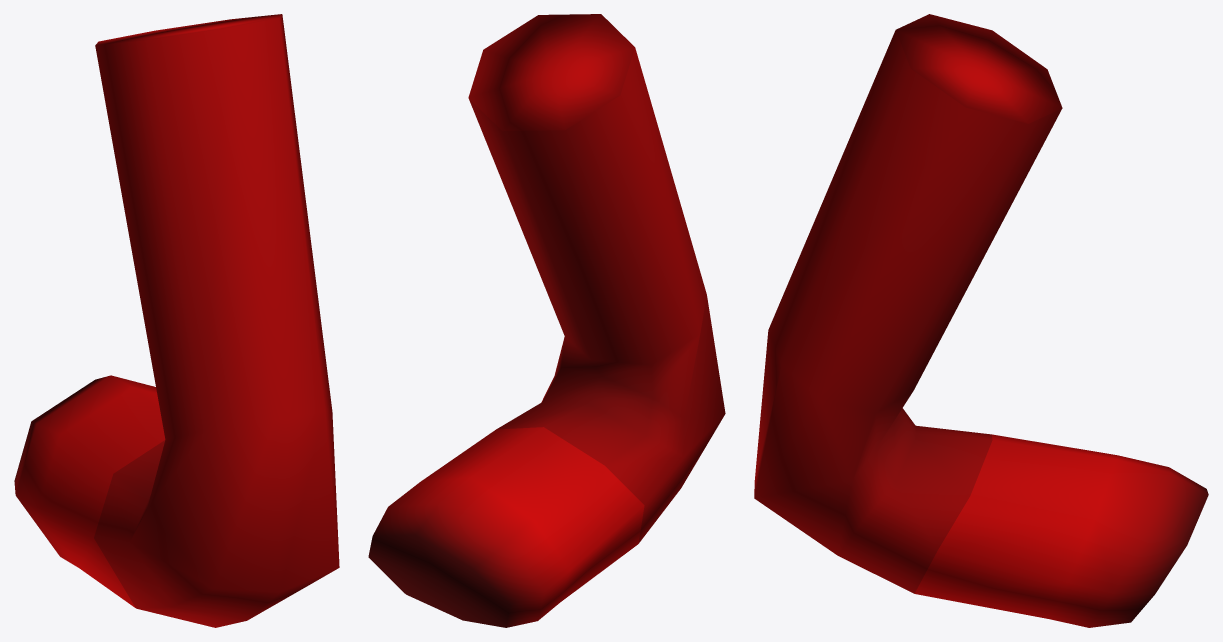
The model's file is CigaretteButt002.glb.
3 renders of one model, left to right at view 1: azimuth 30°, elevation 25°; view 2: azimuth 150°, elevation 25°; view 3: azimuth 270°, elevation 25°, orthographic. The views are drawn at different scales.
Parts seen in each view (by area): view 1: CigaretteButt002; view 2: CigaretteButt002; view 3: CigaretteButt002.
Part boxes in pixels (<box>): CigaretteButt002: <box>14,14,339,627</box>; CigaretteButt002: <box>368,14,725,627</box>; CigaretteButt002: <box>754,14,1208,627</box>.
Size of the model in its own units: 0.0676 by 0.1756 by 0.1266.
